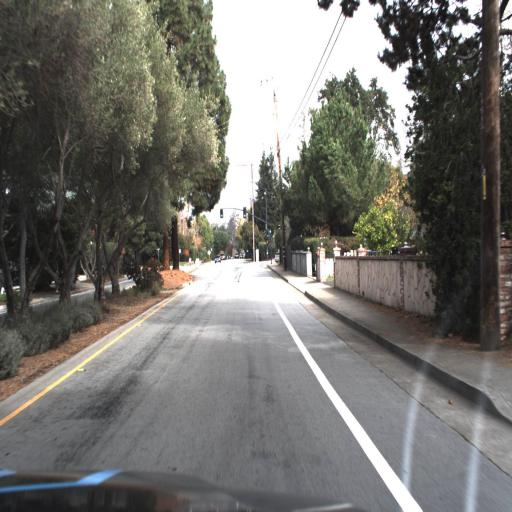trafficLight-Green: (215, 203, 224, 222), (241, 203, 248, 223)
